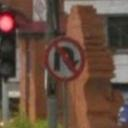NoVirarU: (43, 35, 87, 81)
